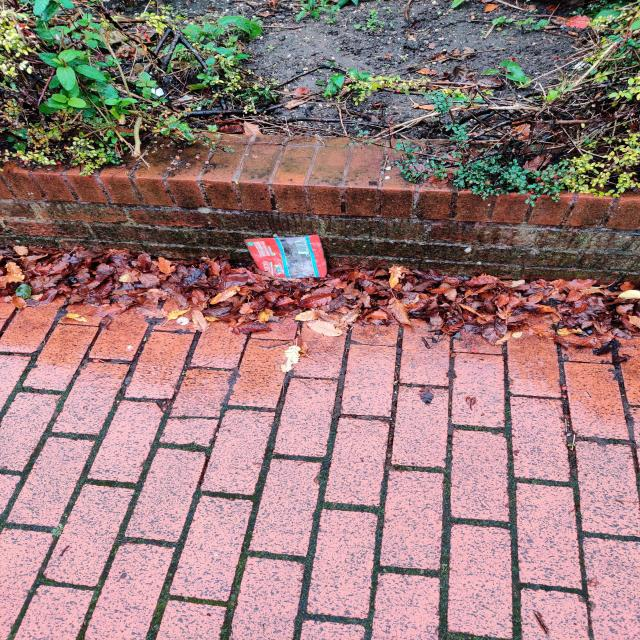litter: (239, 223, 355, 293)
